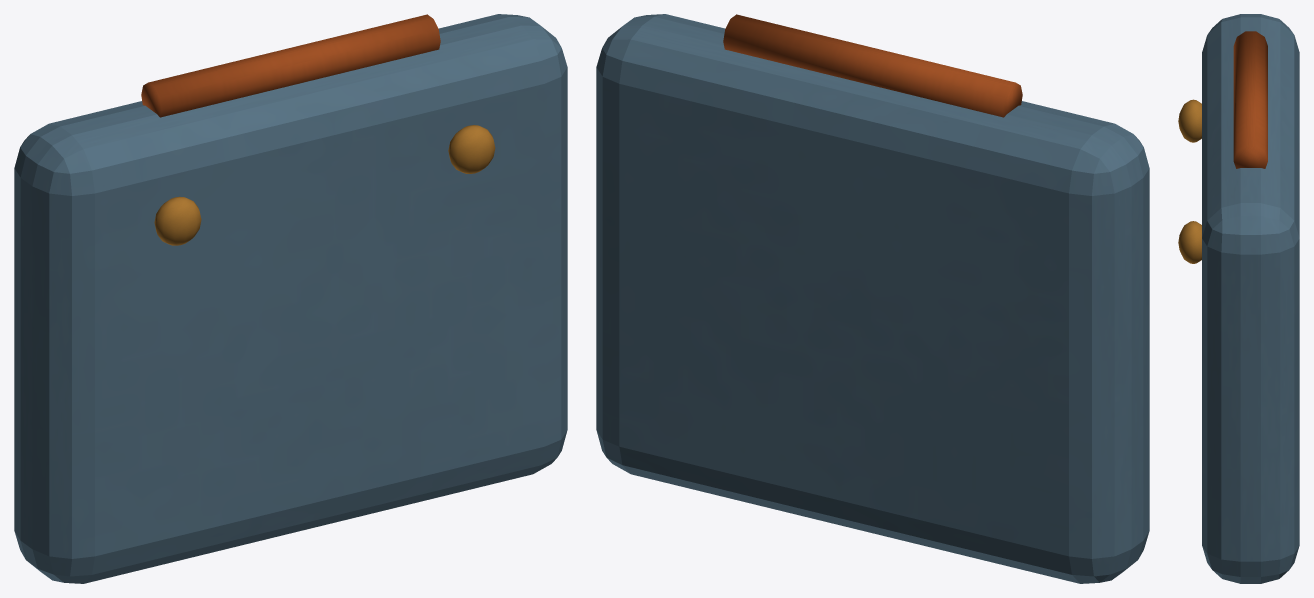
The model's file is SM_iron_shield_fragment.fbx.
The picture shows the model from 3 angles, left to right: view 1: azimuth 30°, elevation 25°; view 2: azimuth 150°, elevation 25°; view 3: azimuth 270°, elevation 25°; orthographic projection. The views are drawn at different scales.
Parts seen in each view (by area): view 1: SM_iron_shield_fragment; view 2: SM_iron_shield_fragment; view 3: SM_iron_shield_fragment.
Boxes of the visible parts, x1,y1,x2,y2 form: SM_iron_shield_fragment: (14,14,567,583); SM_iron_shield_fragment: (596,14,1149,583); SM_iron_shield_fragment: (1178,14,1299,583).
Size of the model in its own units: 0.36 by 0.0845 by 0.3064.
